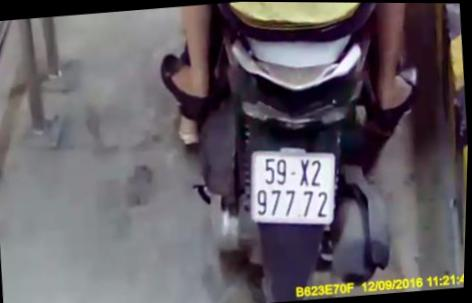LP: (244, 141, 344, 232)
